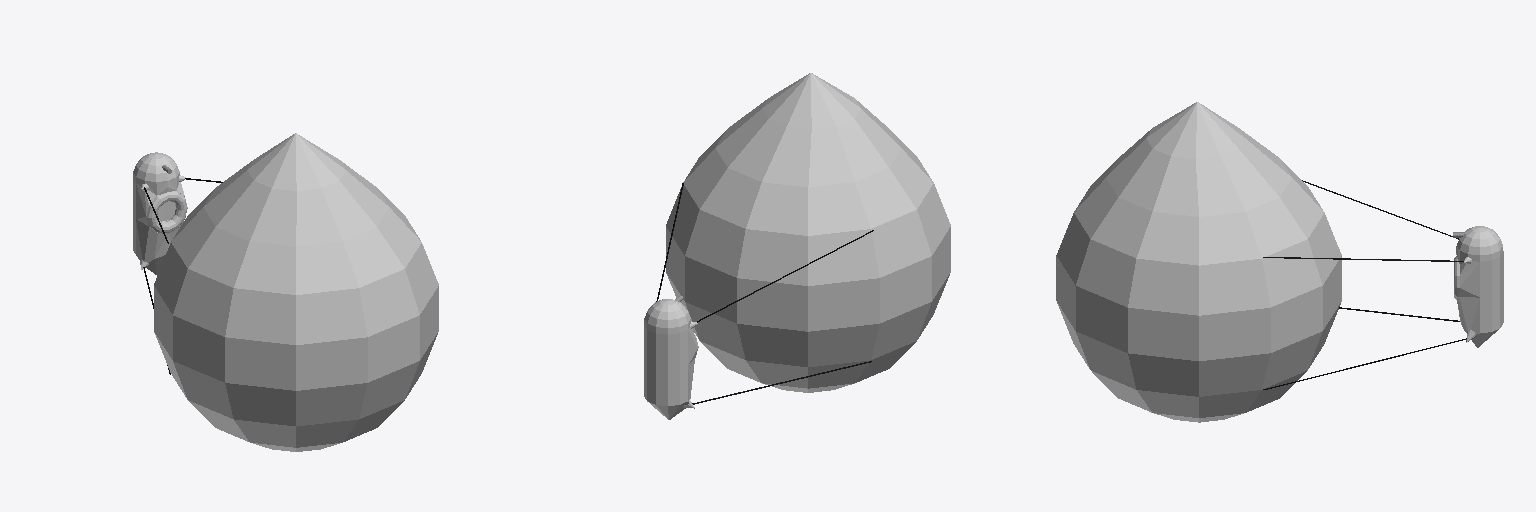
File: airship.obj
3 views of the same model, side by side, from view 1: azimuth 30°, elevation 25°; view 2: azimuth 150°, elevation 25°; view 3: azimuth 270°, elevation 25° (orthographic).
Parts seen in each view (by area): view 1: Object.7, Object.2, Object.4, Object.1; view 2: Object.7, Object.2, Object.4; view 3: Object.7, Object.2, Object.4.
Boxes of the visible parts, x1,y1,x2,y2 form: Object.7: [154, 133, 438, 451]; Object.2: [133, 180, 184, 262]; Object.4: [133, 152, 179, 195]; Object.1: [146, 191, 187, 232]; Object.7: [666, 73, 950, 392]; Object.2: [644, 325, 697, 405]; Object.4: [644, 299, 690, 334]; Object.7: [1056, 102, 1341, 422]; Object.2: [1457, 252, 1503, 334]; Object.4: [1456, 226, 1503, 263].
Size of the model in its own units: 41.27 by 49.02 by 64.64.